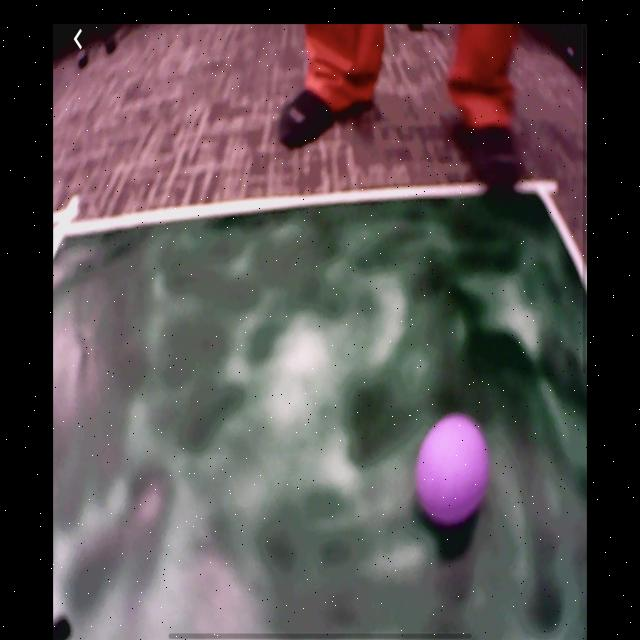ball: (416, 414, 491, 527)
